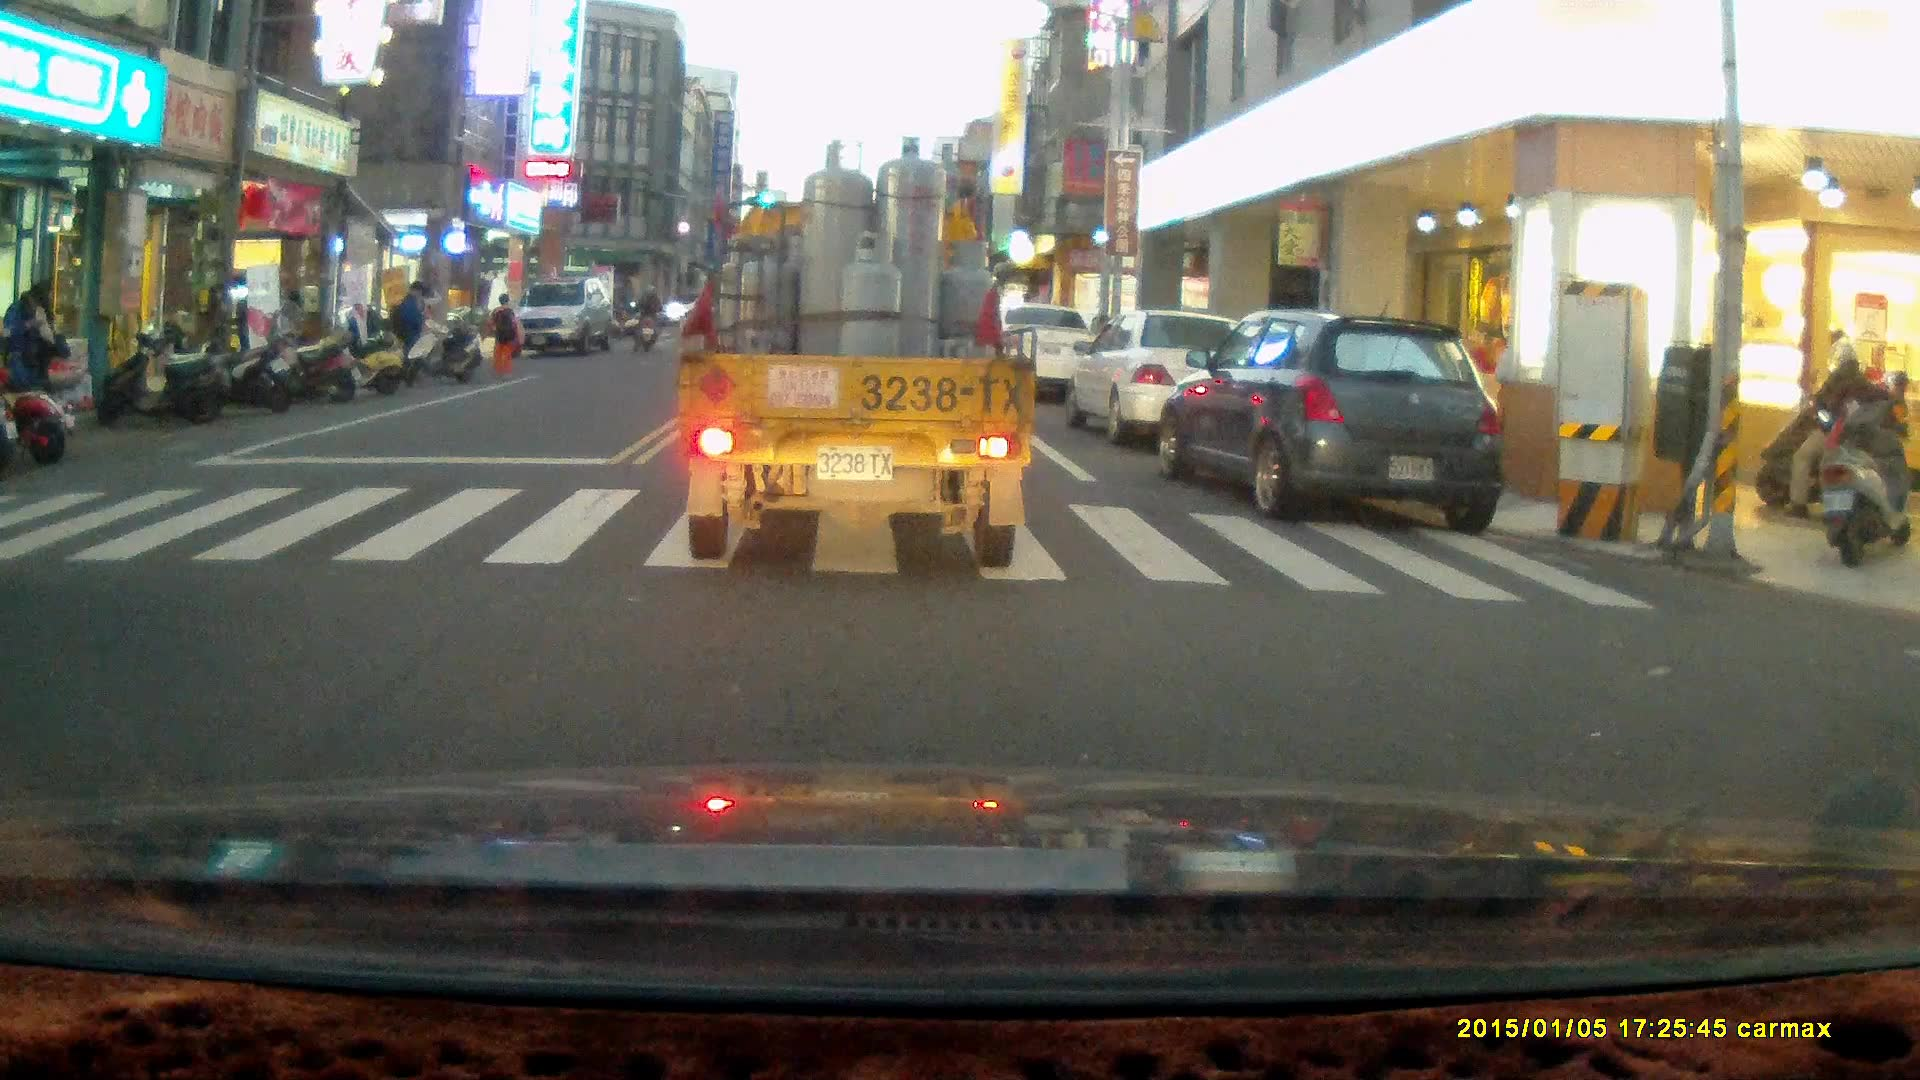pedestrian: (2, 274, 58, 404), (386, 278, 426, 378), (486, 291, 521, 376), (231, 275, 261, 369)
rider: (1751, 338, 1898, 521), (629, 278, 661, 353)
vehicle: (673, 133, 1042, 573), (1155, 306, 1510, 531), (1067, 309, 1279, 445), (983, 303, 1110, 408), (508, 273, 614, 351)
